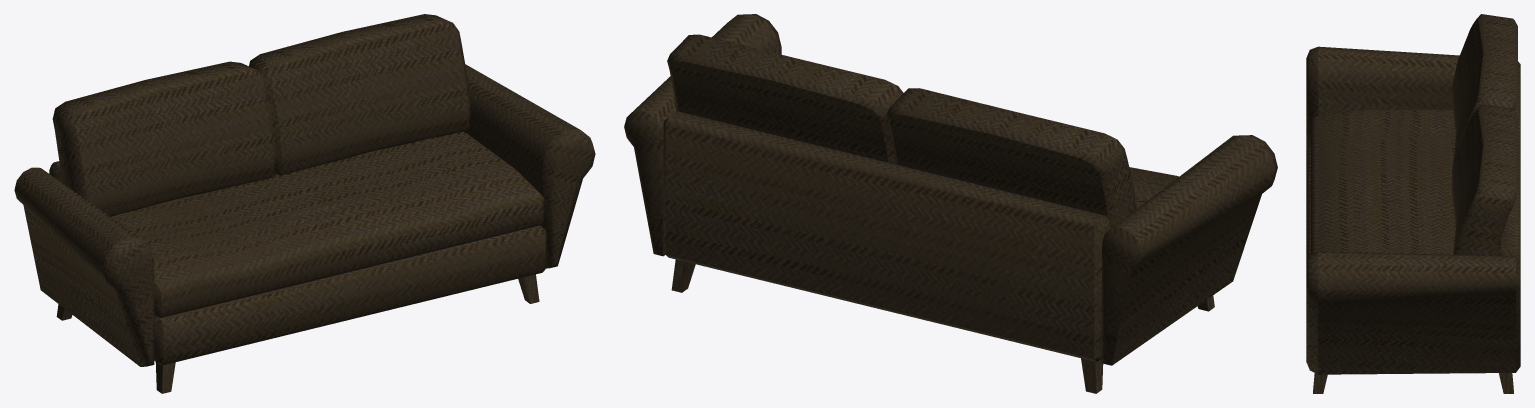
The model's file is sofa_5_2.glb.
3 views of the same model, side by side, from view 1: azimuth 30°, elevation 25°; view 2: azimuth 150°, elevation 25°; view 3: azimuth 270°, elevation 25° (orthographic). The views are drawn at different scales.
Visible parts, largest first — view 1: sofa_5_2; view 2: sofa_5_2; view 3: sofa_5_2.
Part boxes in pixels (<box>): sofa_5_2: <box>14,14,595,393</box>; sofa_5_2: <box>624,14,1277,393</box>; sofa_5_2: <box>1306,14,1520,393</box>.
Bounding box in the file's own units: 2.49 × 1.07 × 0.99.
2 materials, 2 textured.
